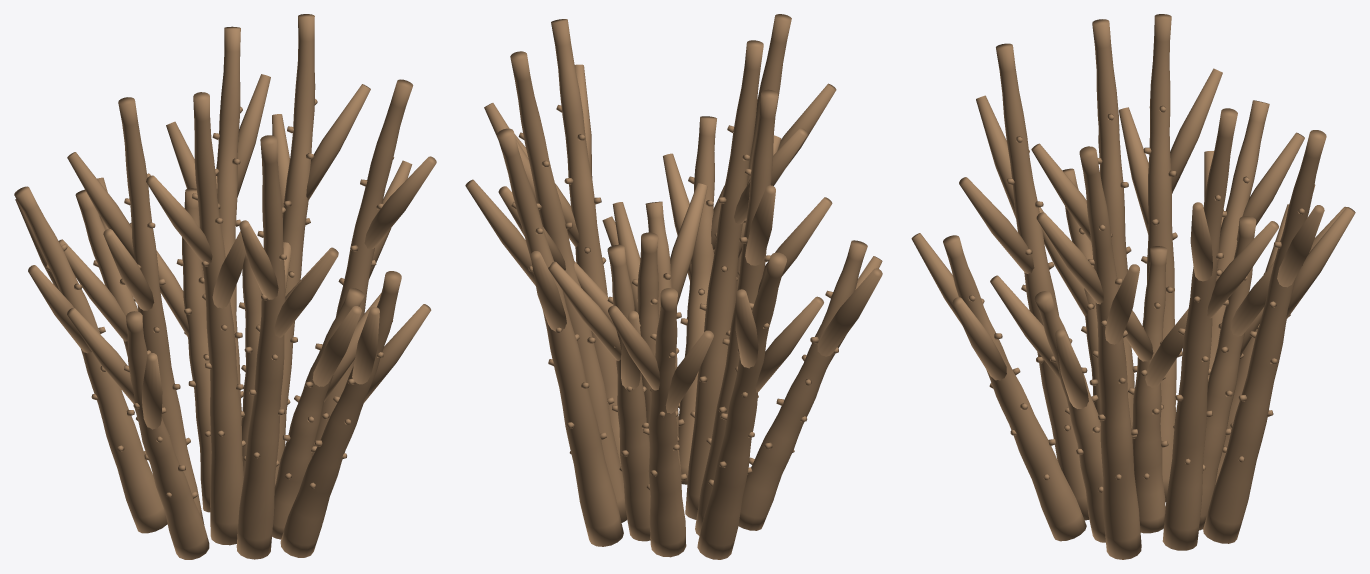
The model's file is montidigi-desktop.glb.
The picture shows the model from 3 angles, left to right: view 1: azimuth 30°, elevation 25°; view 2: azimuth 150°, elevation 25°; view 3: azimuth 270°, elevation 25°; orthographic projection. The views are drawn at different scales.
Visible parts, largest first — view 1: branch, lateral-branch, radial-corallite; view 2: branch, lateral-branch, radial-corallite; view 3: branch, lateral-branch, radial-corallite.
Boxes of the visible parts, left/top/right/bottom form: branch: left=14, top=14, right=413, bottom=559; lateral-branch: left=15, top=74, right=436, bottom=429; radial-corallite: left=46, top=99, right=394, bottom=498; branch: left=497, top=14, right=867, bottom=559; lateral-branch: left=465, top=64, right=882, bottom=413; radial-corallite: left=511, top=99, right=838, bottom=489; branch: left=943, top=14, right=1326, bottom=559; lateral-branch: left=911, top=68, right=1355, bottom=408; radial-corallite: left=968, top=105, right=1304, bottom=492.
Size of the model in its own units: 0.4732 by 0.5921 by 0.5017.
